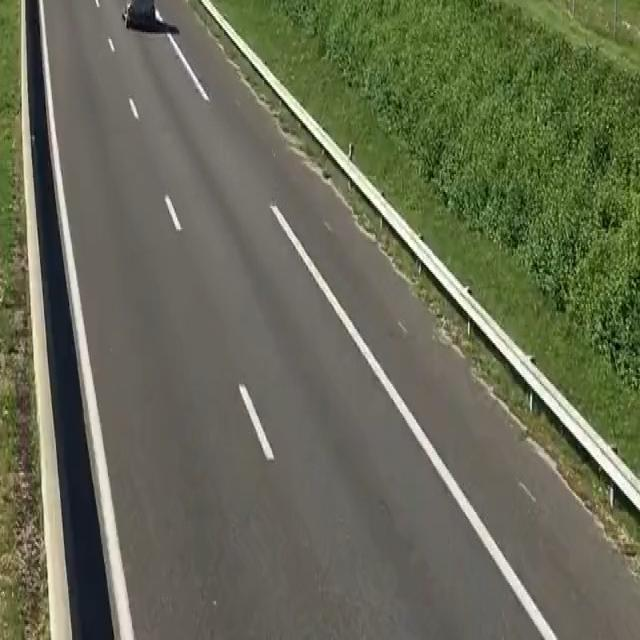car: (108, 0, 172, 69)
